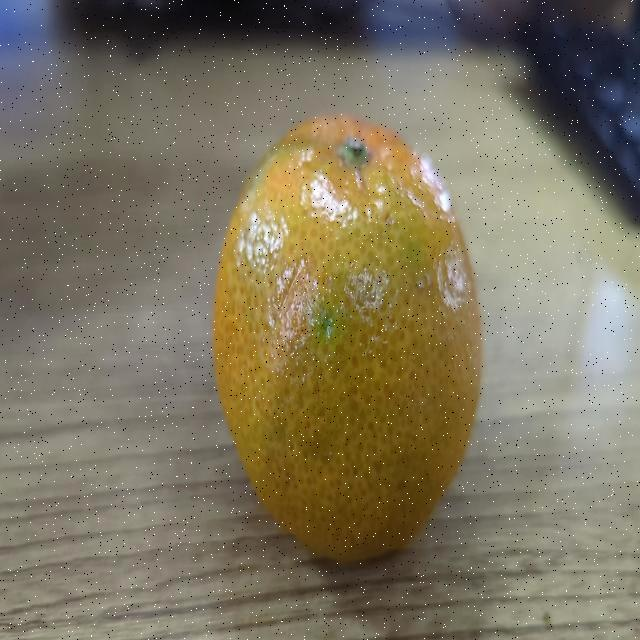Jeruk: (210, 118, 482, 572)
